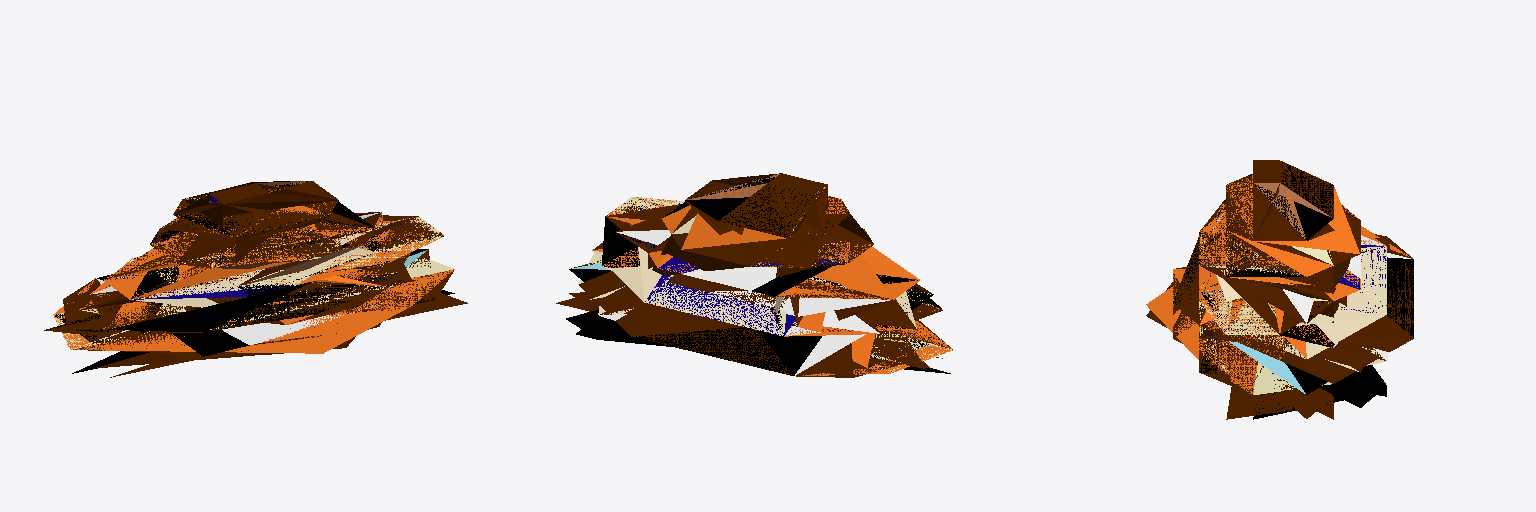
The picture shows the model from 3 angles: view 1: azimuth 30°, elevation 25°; view 2: azimuth 150°, elevation 25°; view 3: azimuth 270°, elevation 25°; orthographic projection.
Size of the model in its own units: 16 by 6 by 10.
Materials: 1 (1 with a texture image).